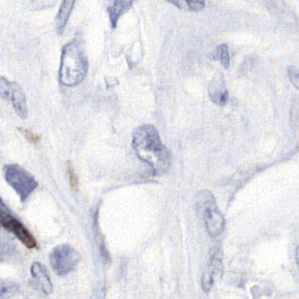Lymphocyte: (1, 211, 37, 250)
